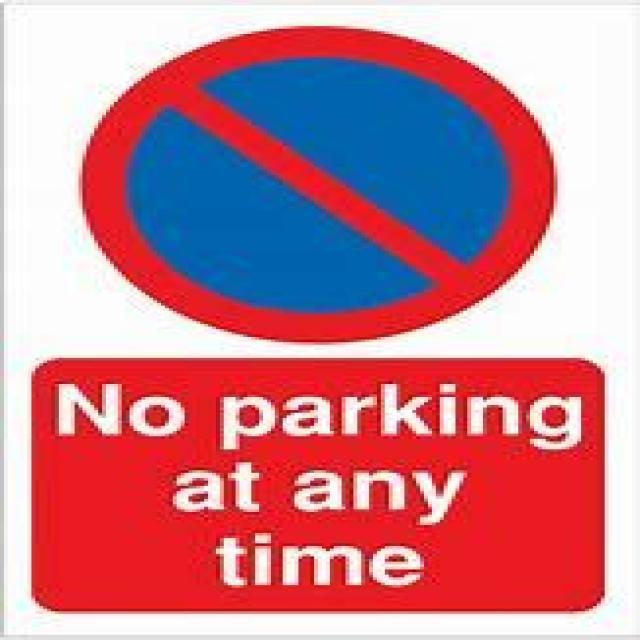no parking: (82, 28, 556, 346)
